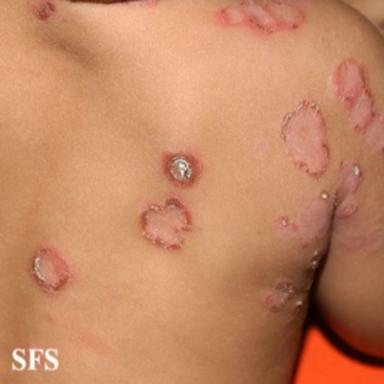Impetigo: (272, 161, 361, 245), (327, 57, 384, 150), (281, 100, 329, 177), (217, 1, 309, 35), (140, 197, 192, 249), (30, 246, 73, 294), (162, 149, 202, 187), (336, 229, 384, 253), (263, 280, 295, 312), (306, 247, 327, 273), (33, 0, 56, 20)
